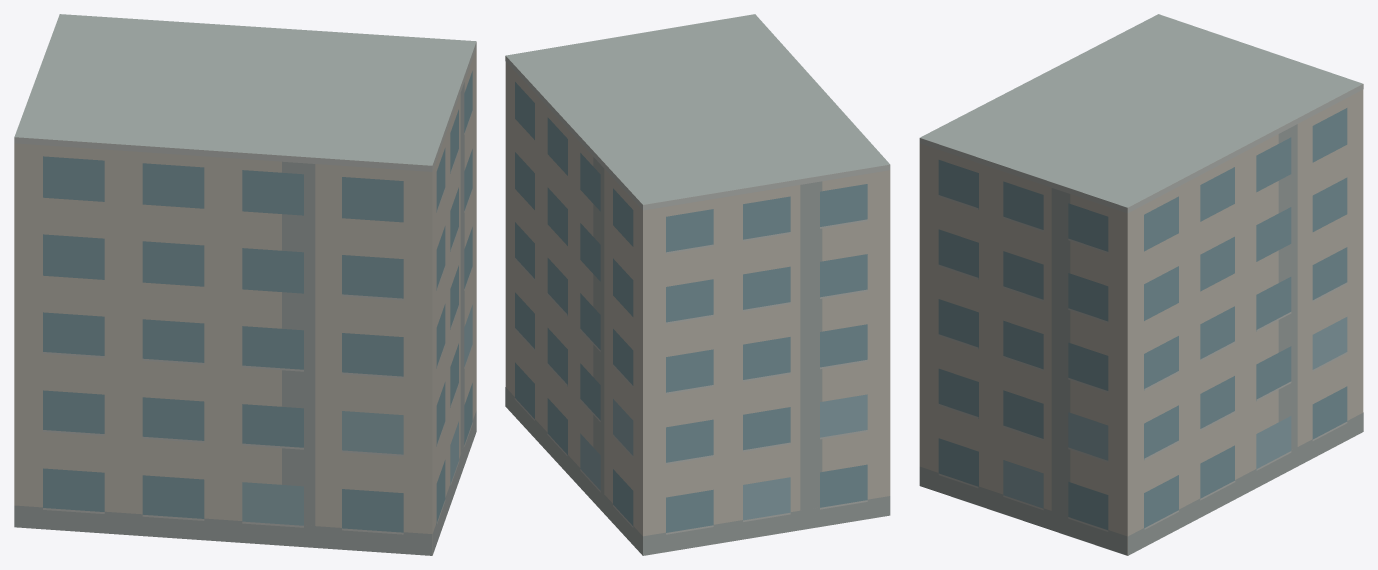
The model's file is survey-upis-32591641.glb.
3 views of the same model, side by side, from view 1: azimuth 30°, elevation 25°; view 2: azimuth 150°, elevation 25°; view 3: azimuth 270°, elevation 25° (orthographic). The views are drawn at different scales.
Parts seen in each view (by area): view 1: survey-upis-32591641.tmp; view 2: survey-upis-32591641.tmp; view 3: survey-upis-32591641.tmp.
Boxes of the visible parts, x1,y1,x2,y2 form: survey-upis-32591641.tmp: [14, 14, 476, 555]; survey-upis-32591641.tmp: [505, 14, 890, 555]; survey-upis-32591641.tmp: [919, 14, 1363, 555].
Bounding box in the file's own units: 18.22 × 15.25 × 17.63.
